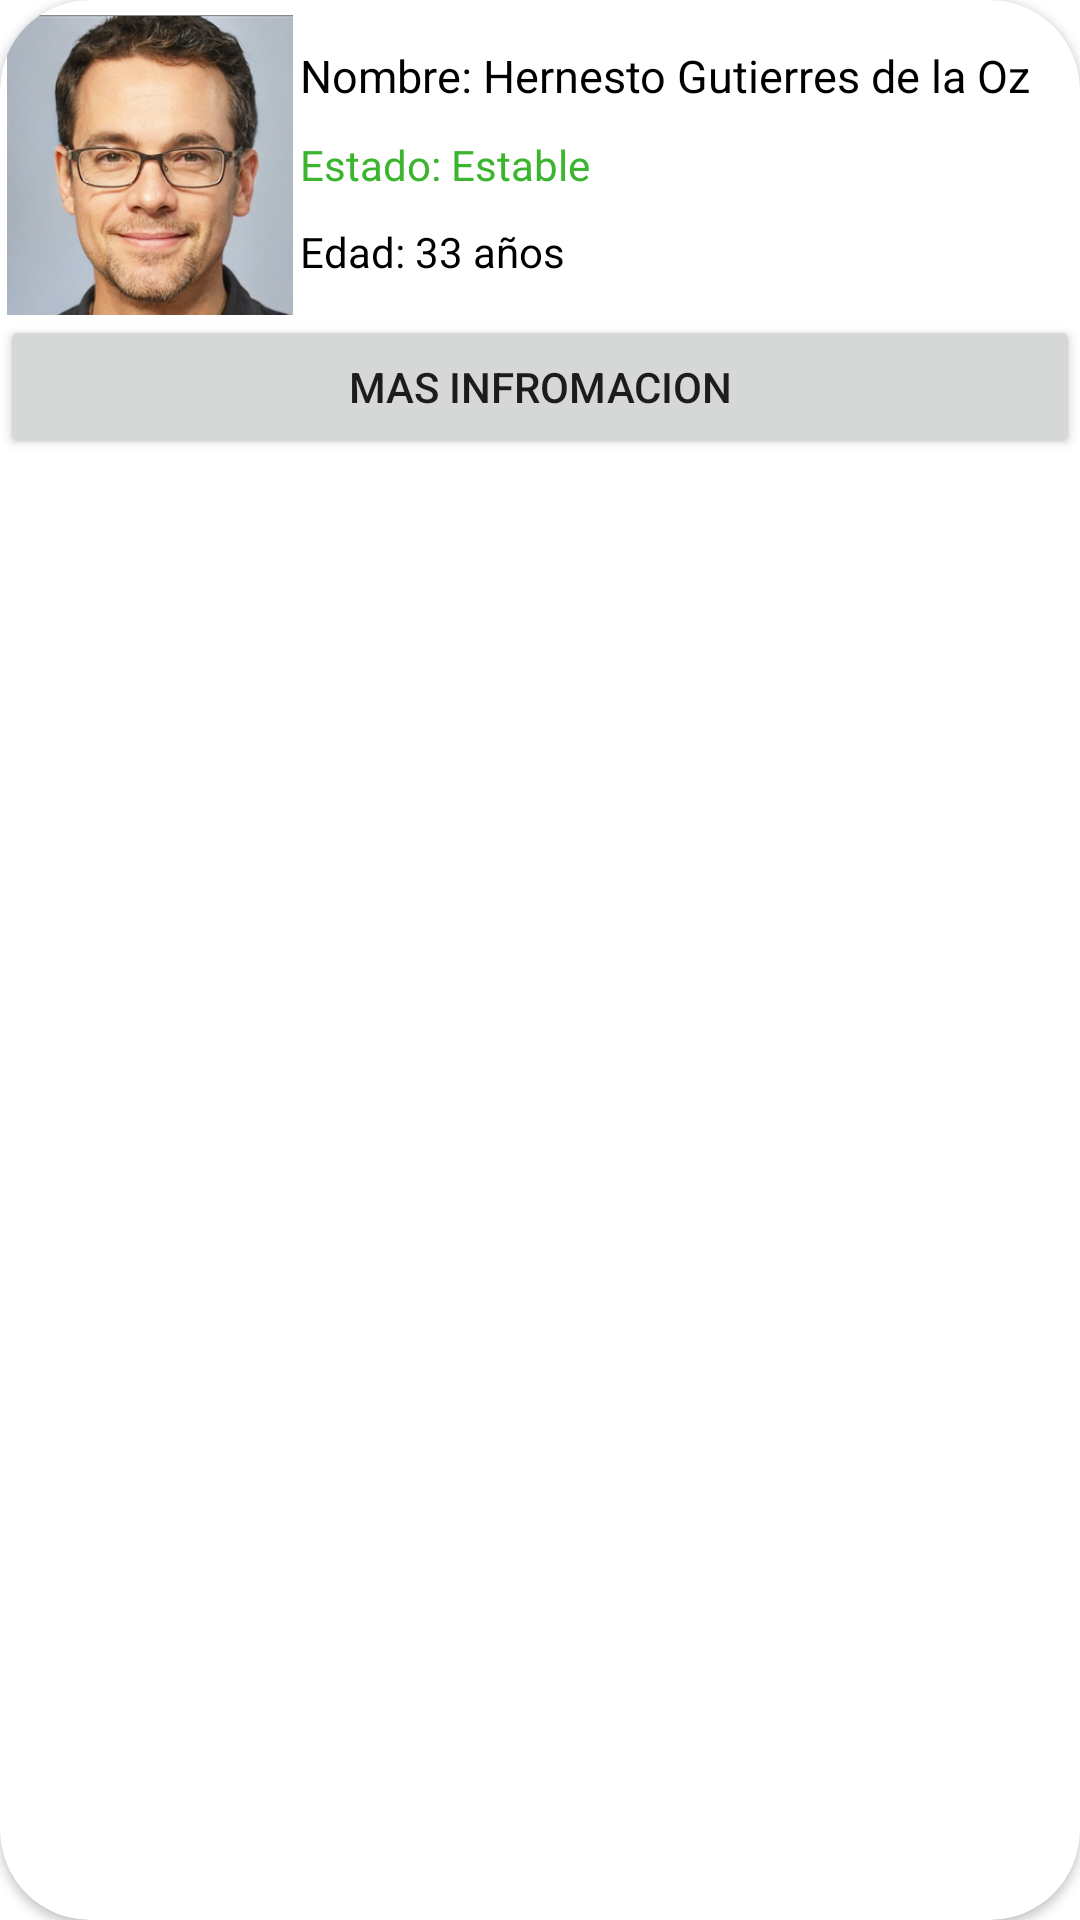

Named icons in this screenshot (1080*1920) and their bounding boxes, BBox(x1, y1, x2, y2):
paciente: BBox(0, 15, 293, 315)
